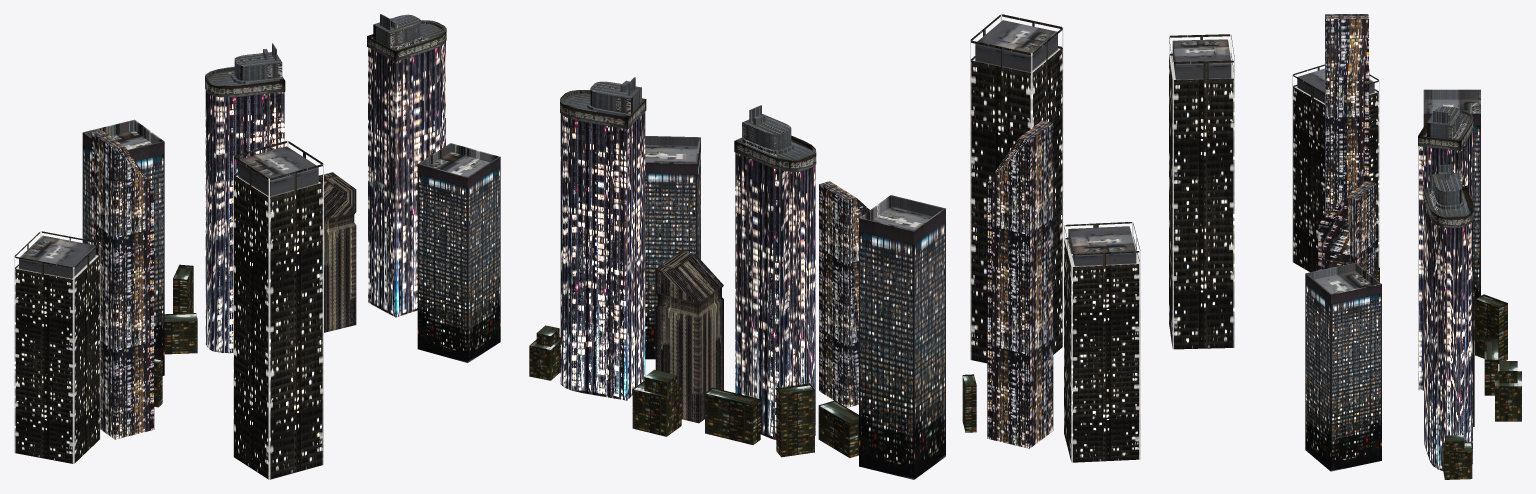
The model's file is city_night (3).glb.
The picture shows the model from 3 angles, left to right: view 1: azimuth 30°, elevation 25°; view 2: azimuth 150°, elevation 25°; view 3: azimuth 270°, elevation 25°; orthographic projection. The views are drawn at different scales.
Parts seen in each view (by area): view 1: Cube.007, Cube, Cube.003, Cube.008, Cube.006, Cube.001, Cube.002, Cube.005, Cube.014, Cube.011; view 2: Cube.003, Cube.002, Cube.001, Cube.006, Cube, Cube.007, Cube.005, Cube.004, Cube.008, Cube.010, Cube.011, Cube.009 (+3 smaller); view 3: Cube.007, Cube.008, Cube.003, Cube.006, Cube, Cube.001, Cube.004, Cube.002, Cube.011, Cube.010, Cube.013, Cube.009.
Boxes of the visible parts, left/top/right/bottom form: Cube.007: left=233, top=140, right=323, bottom=479; Cube: left=14, top=231, right=100, bottom=463; Cube.003: left=367, top=14, right=446, bottom=317; Cube.008: left=417, top=143, right=500, bottom=362; Cube.006: left=91, top=130, right=154, bottom=439; Cube.001: left=205, top=43, right=285, bottom=353; Cube.002: left=82, top=119, right=164, bottom=375; Cube.005: left=318, top=172, right=356, bottom=332; Cube.014: left=164, top=313, right=197, bottom=354; Cube.011: left=173, top=264, right=193, bottom=313; Cube.003: left=560, top=77, right=646, bottom=400; Cube.002: left=859, top=195, right=945, bottom=479; Cube.001: left=734, top=105, right=816, bottom=439; Cube.006: left=987, top=120, right=1053, bottom=448; Cube: left=1064, top=221, right=1140, bottom=462; Cube.007: left=970, top=14, right=1063, bottom=363; Cube.005: left=655, top=251, right=723, bottom=423; Cube.004: left=819, top=181, right=869, bottom=407; Cube.008: left=645, top=136, right=700, bottom=359; Cube.010: left=632, top=369, right=681, bottom=436; Cube.011: left=776, top=383, right=814, bottom=457; Cube.009: left=705, top=387, right=760, bottom=444; Cube.007: left=1169, top=34, right=1234, bottom=349; Cube.008: left=1305, top=262, right=1381, bottom=471; Cube.003: left=1423, top=164, right=1473, bottom=470; Cube.006: left=1325, top=14, right=1369, bottom=216; Cube: left=1292, top=64, right=1379, bottom=272; Cube.001: left=1418, top=106, right=1473, bottom=390; Cube.004: left=1318, top=181, right=1376, bottom=278; Cube.002: left=1423, top=89, right=1480, bottom=304; Cube.011: left=1475, top=294, right=1507, bottom=363; Cube.010: left=1495, top=361, right=1521, bottom=421; Cube.013: left=1443, top=435, right=1472, bottom=479; Cube.009: left=1484, top=338, right=1498, bottom=395.
Size of the model in its own units: 8.51 by 4.83 by 5.35.
Materials: 9 (9 with a texture image).
